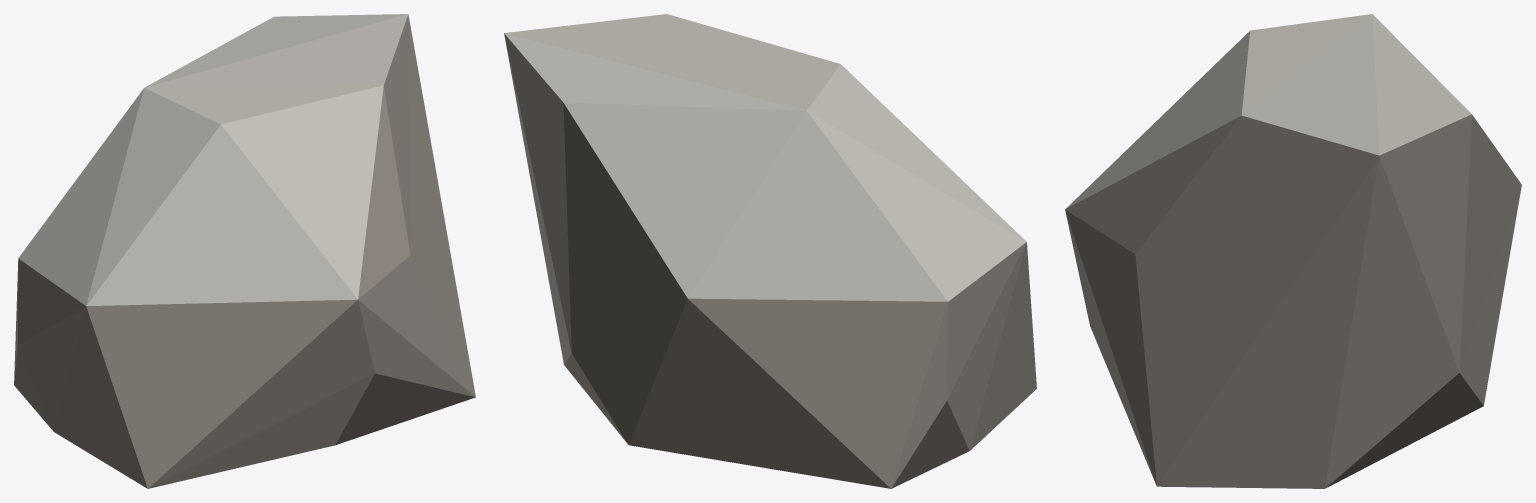
Rendered from Boulder_A.fbx.
3 renders of one model, left to right at view 1: azimuth 30°, elevation 25°; view 2: azimuth 150°, elevation 25°; view 3: azimuth 270°, elevation 25°, orthographic. The views are drawn at different scales.
Visible parts, largest first — view 1: Boulder_A; view 2: Boulder_A; view 3: Boulder_A.
Boxes of the visible parts, bbox=[...] form: Boulder_A: bbox=[14, 14, 475, 488]; Boulder_A: bbox=[504, 14, 1036, 488]; Boulder_A: bbox=[1065, 14, 1521, 488].
Size of the model in its own units: 3.3 by 2.45 by 2.9.
